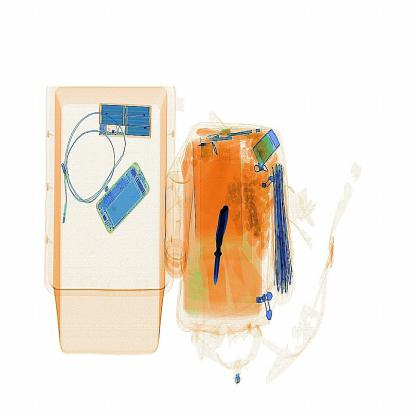gun: (204, 190, 238, 296)
